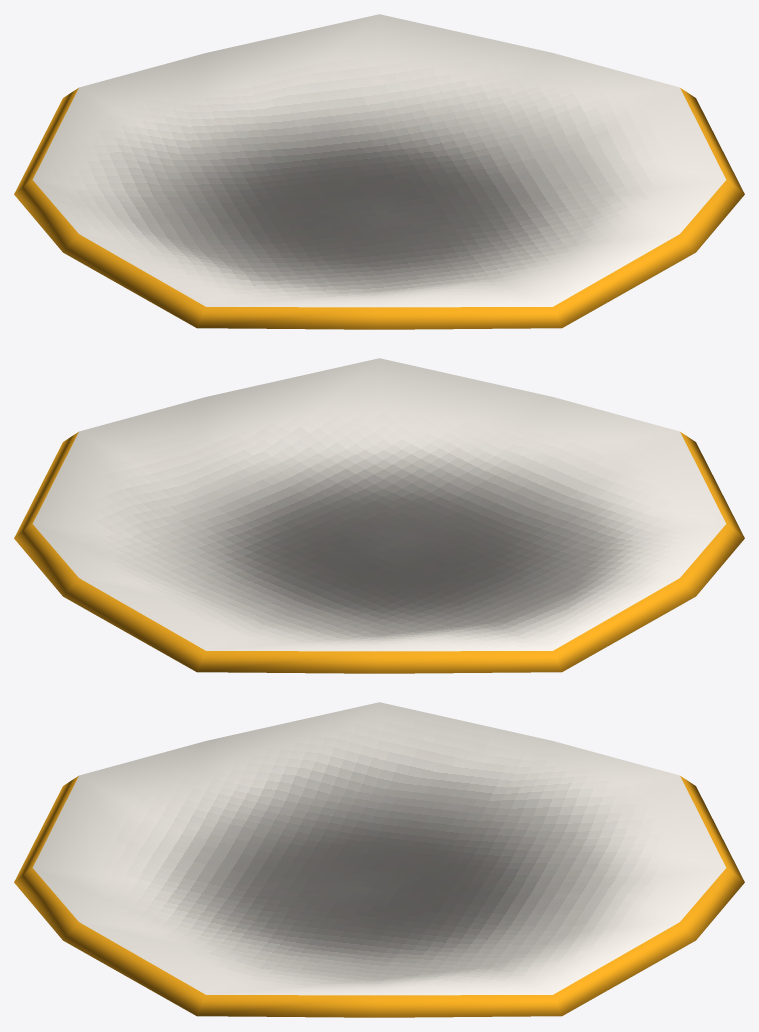
The model's file is tea_plate.glb.
3 views of the same model, one above another, from view 1: azimuth 30°, elevation 25°; view 2: azimuth 150°, elevation 25°; view 3: azimuth 270°, elevation 25° (orthographic).
Parts seen in each view (by area): view 1: tea_plate; view 2: tea_plate; view 3: tea_plate.
Part boxes in pixels (x1,y1,x2,y2): tea_plate: (14,14,744,329); tea_plate: (14,358,744,673); tea_plate: (14,702,744,1017).
Size of the model in its own units: 0.1622 by 0.0134 by 0.1622.
Materials: 1 (1 with a texture image).
